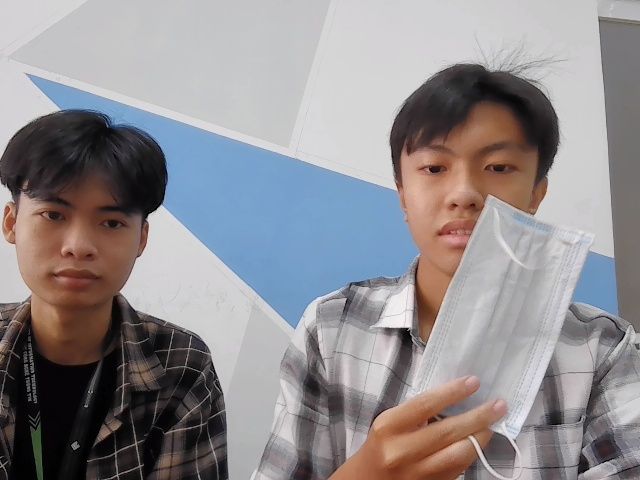human: (386, 51, 571, 270), (2, 107, 173, 307)
mask: (410, 191, 585, 445)
